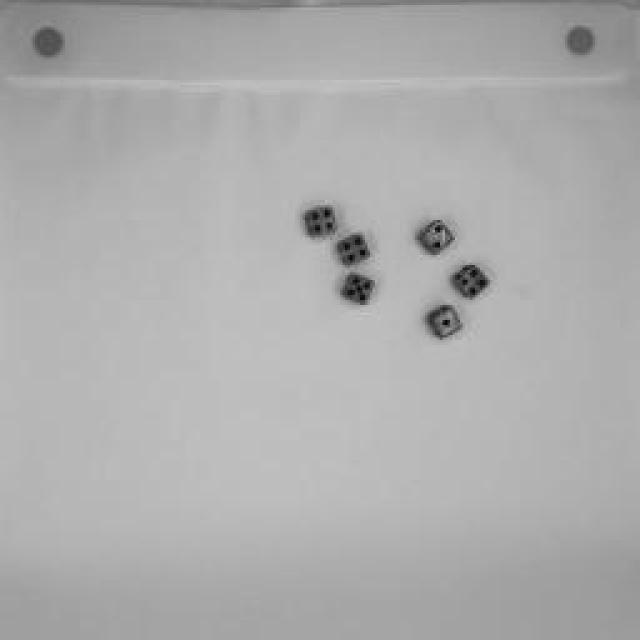dice_1: (421, 300, 469, 348)
dice_2: (412, 215, 460, 260)
dice_4: (446, 256, 494, 306), (331, 228, 379, 272), (298, 198, 342, 242)
dice_5: (338, 268, 380, 310)
